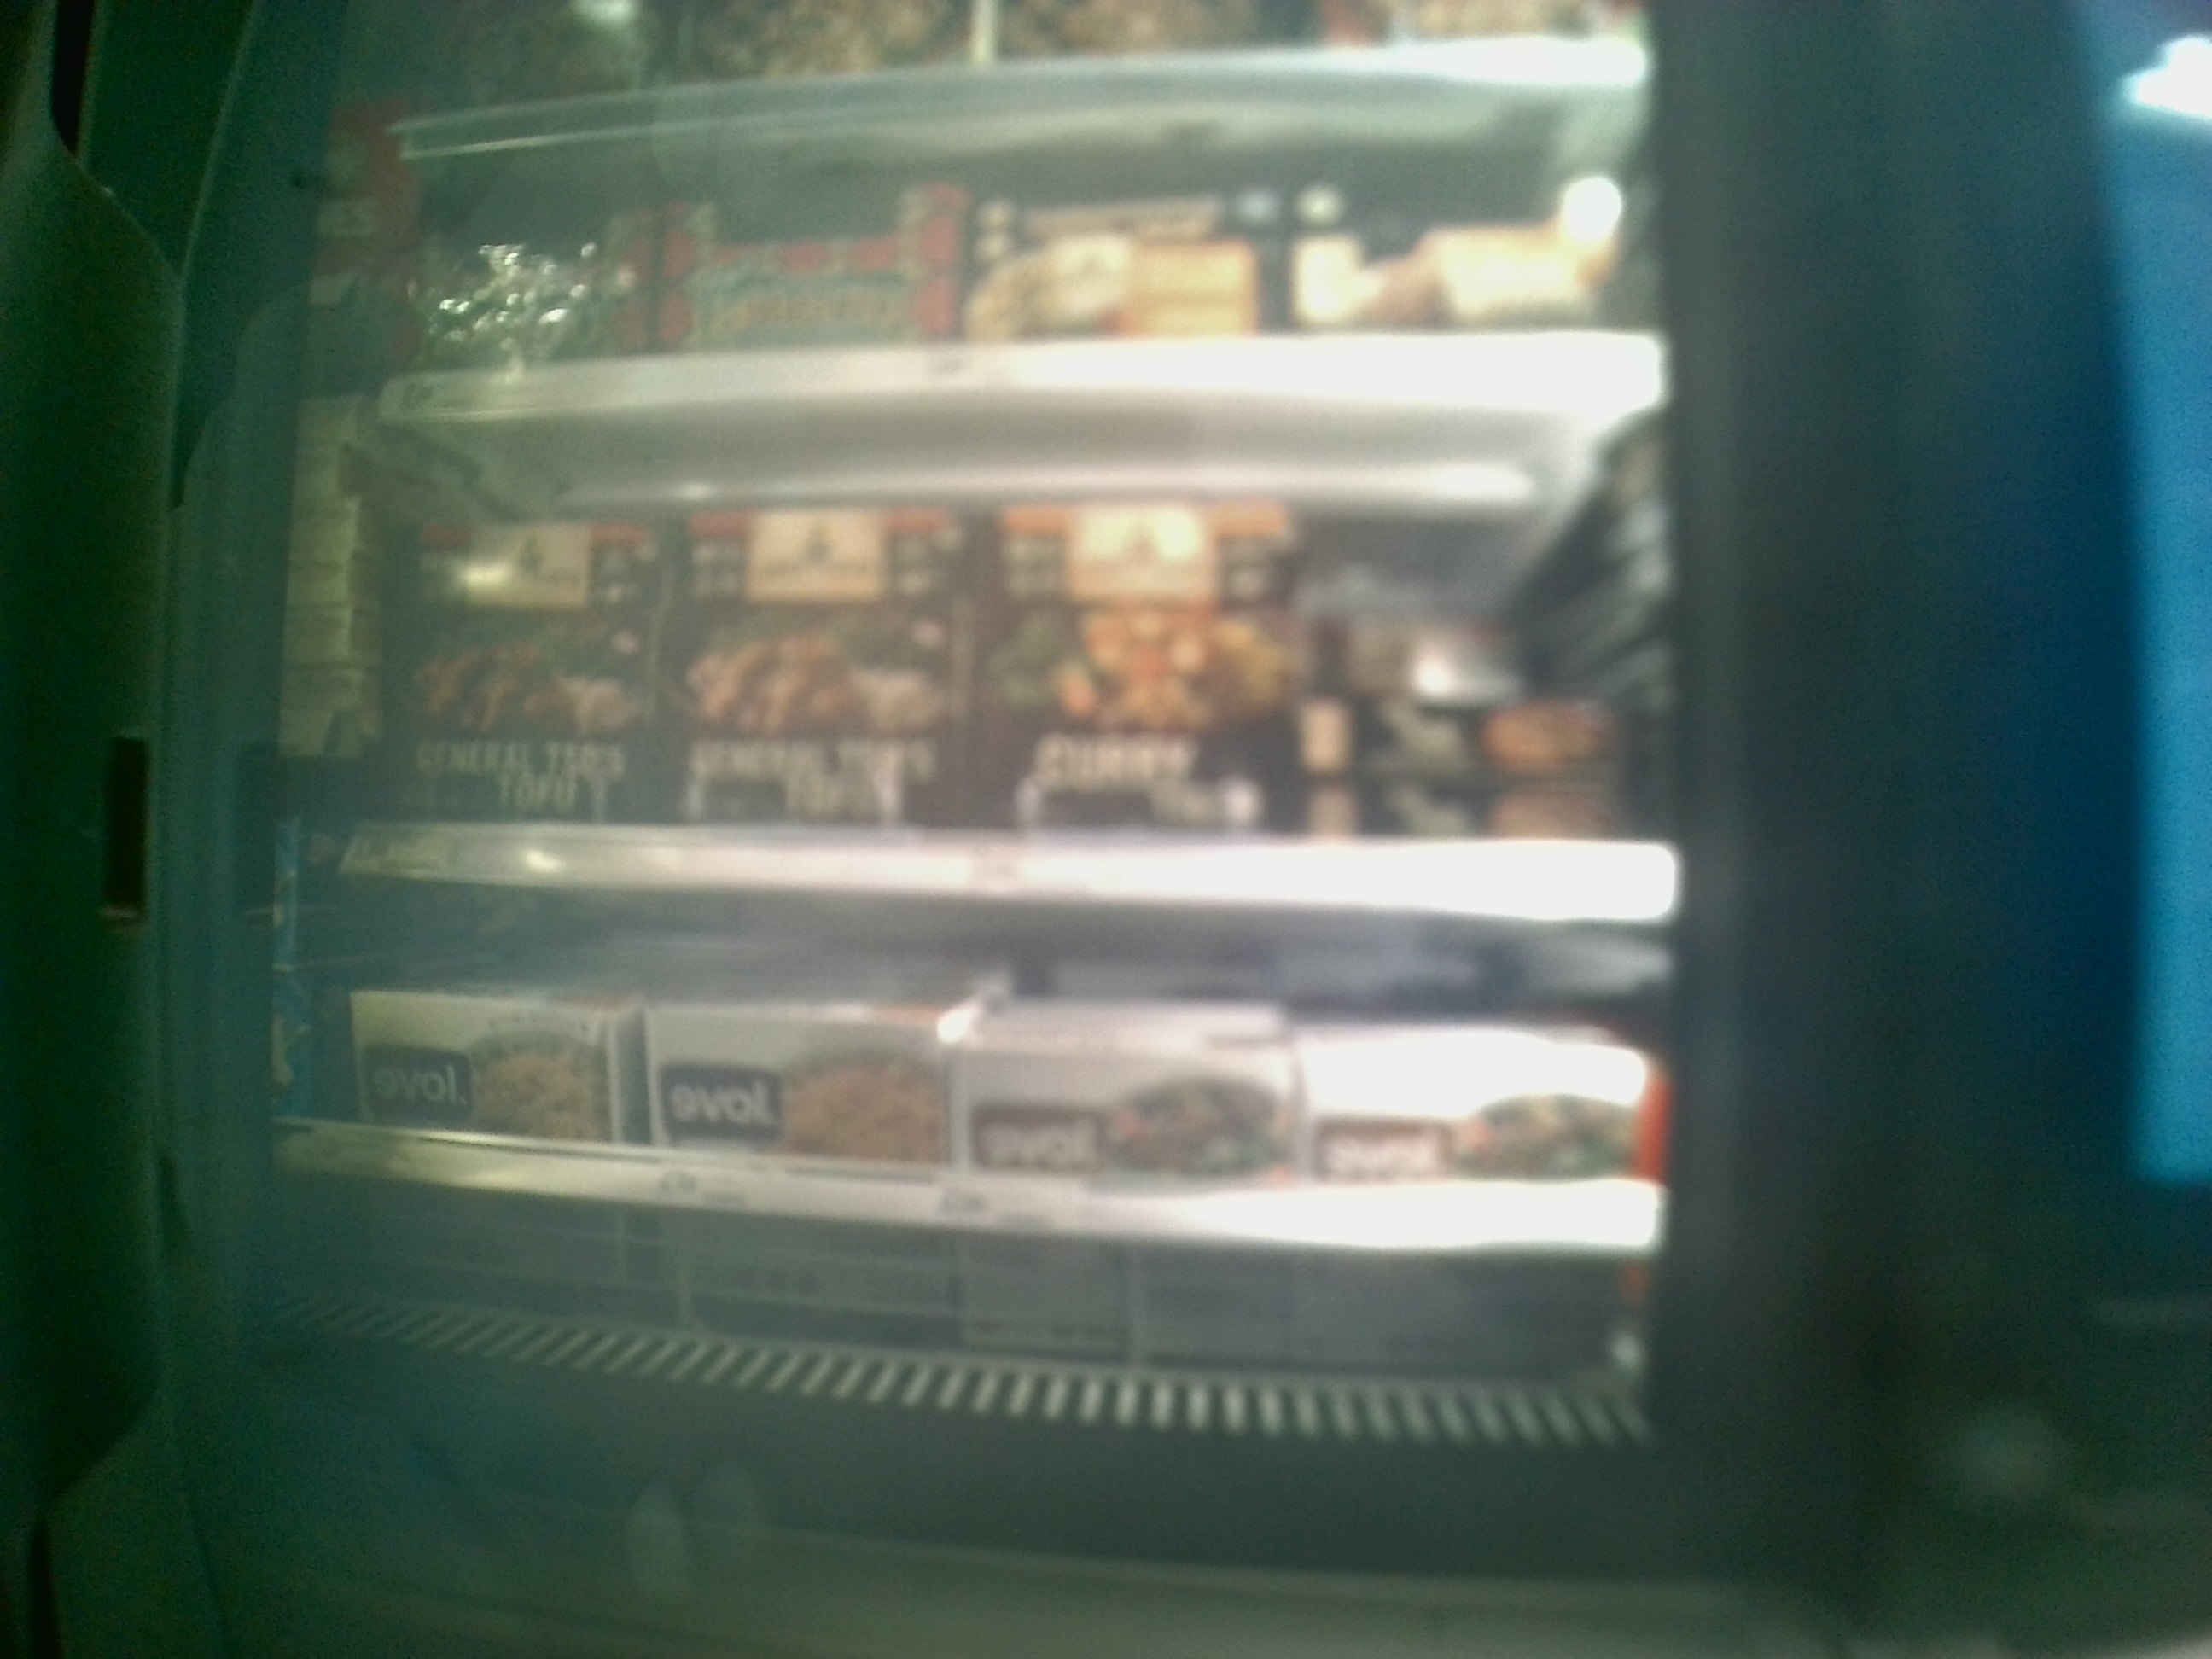frozen-food-shelf: (336, 427, 1686, 917), (301, 922, 1686, 1248), (359, 162, 1686, 430)
